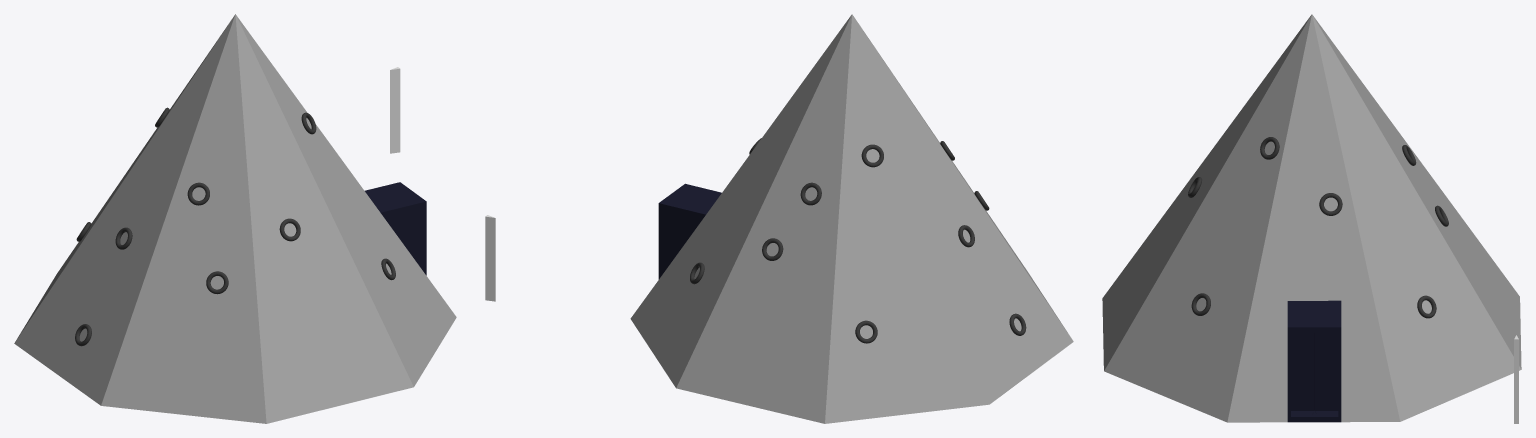
Rendered from space_hut.fbx.
The picture shows the model from 3 angles, left to right: view 1: azimuth 30°, elevation 25°; view 2: azimuth 150°, elevation 25°; view 3: azimuth 270°, elevation 25°; orthographic projection.
Visible parts, largest first — view 1: Cube, Cone.001; view 2: Cube, Cone.001; view 3: Cube, Cone.001.
Boxes of the visible parts, <box> form: Cube: <box>14,14,456,423</box>; Cone.001: <box>390,67,400,153</box>; Cube: <box>630,14,1073,423</box>; Cone.001: <box>485,215,495,301</box>; Cube: <box>1102,14,1521,422</box>; Cone.001: <box>1514,335,1518,423</box>.
Size of the model in its own units: 1272 by 866 by 1028.
